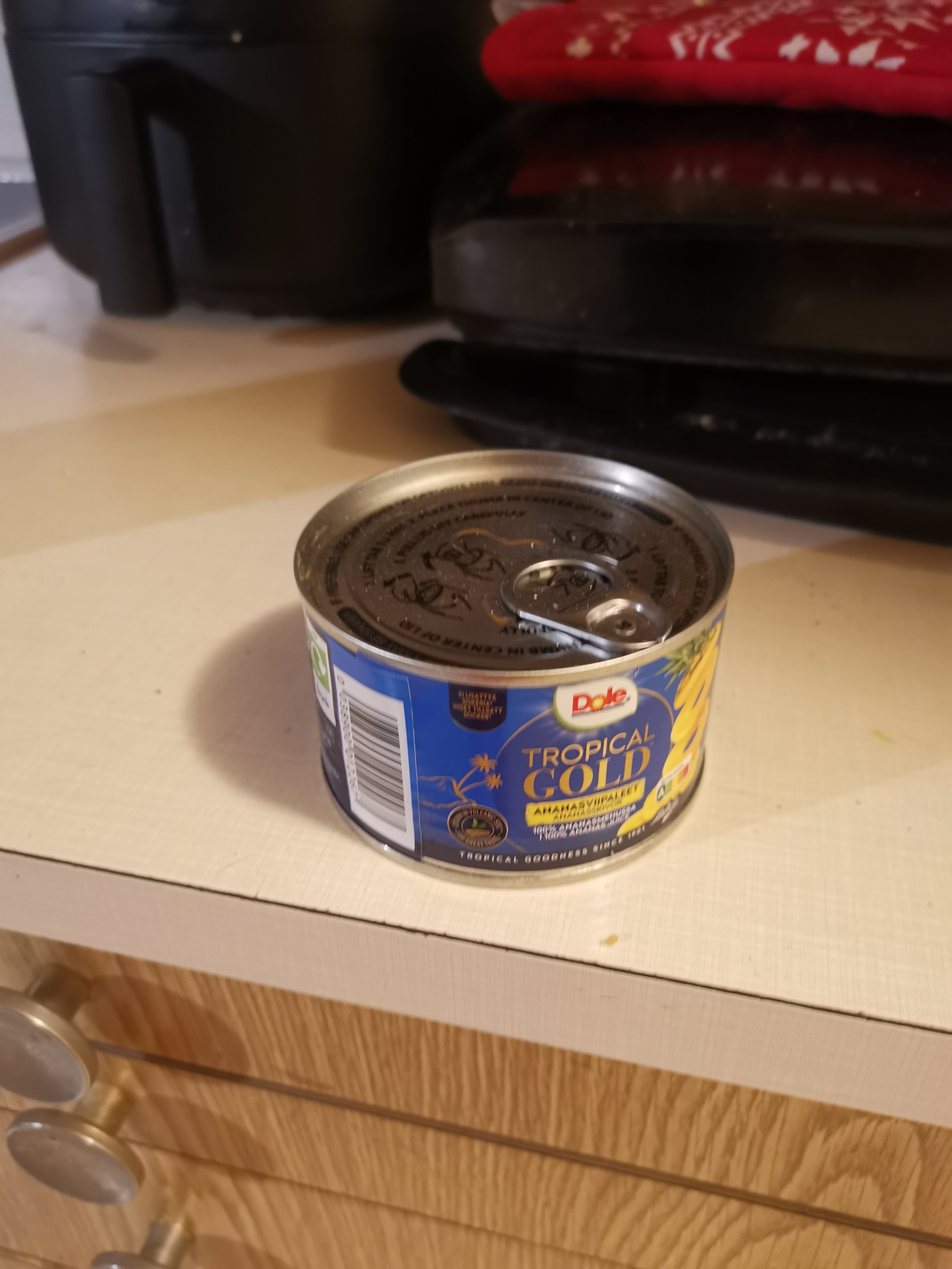Konservburk: (290, 445, 738, 881)
